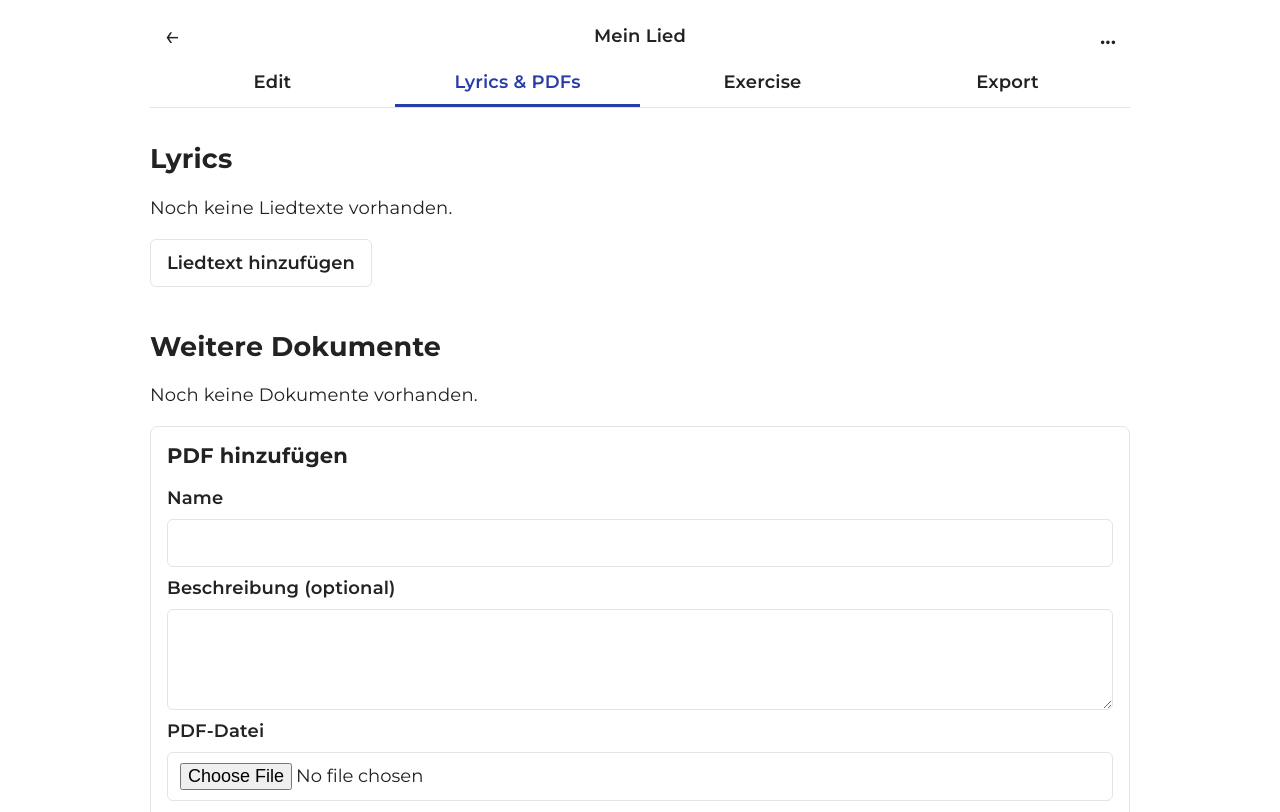
Test: App › öffnet Lyrics und PDFs über einen direkten Projektlink und navigiert zwischen den Ansichten
Expected: the heading "Lyrics" is shown, [150,142,232,175]
Expected: the heading "Weitere Dokumente" is shown, [150,330,441,362]
Click the link "Edit".
click(272, 82)  # box [254,71,291,93]
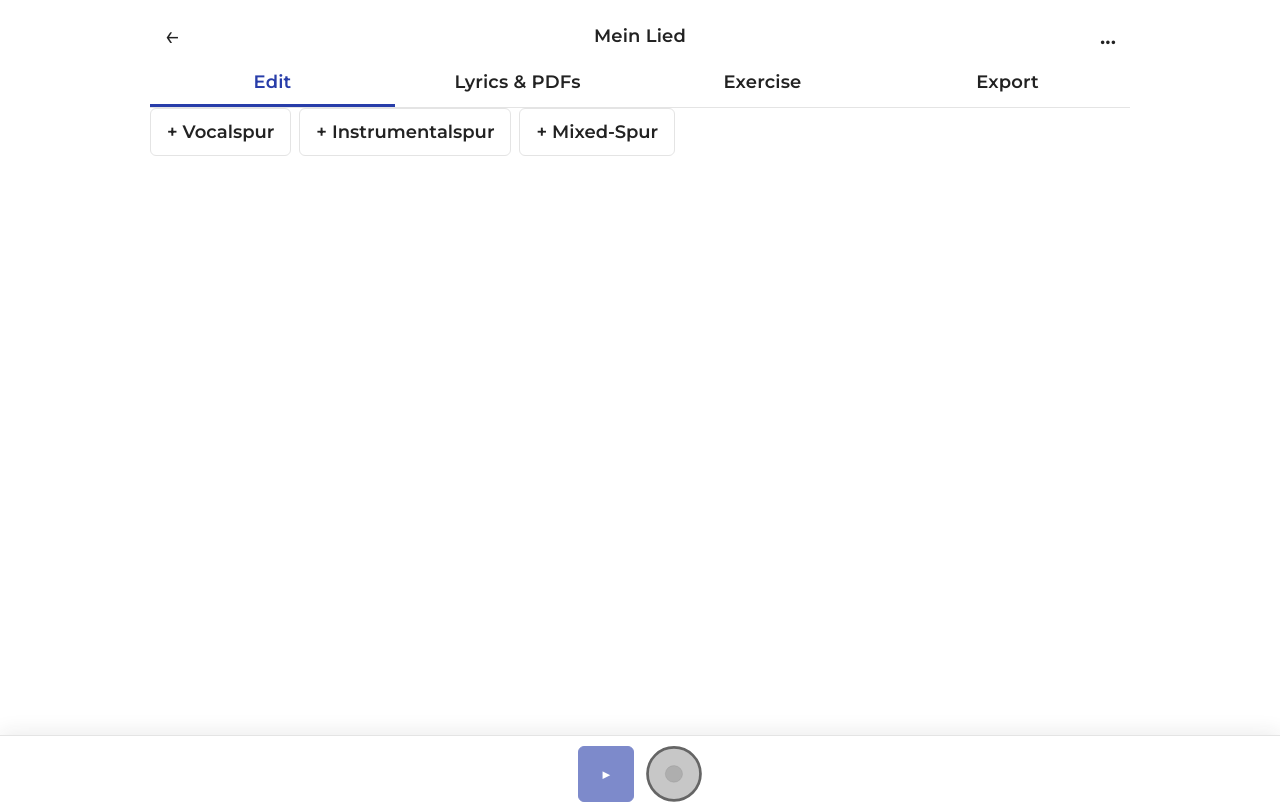
Result: the button "+ Mixed-Spur" is shown at [520,108,675,156]
Click the link "Lyrics & PDFs".
click(518, 82)  # box [454,71,581,93]
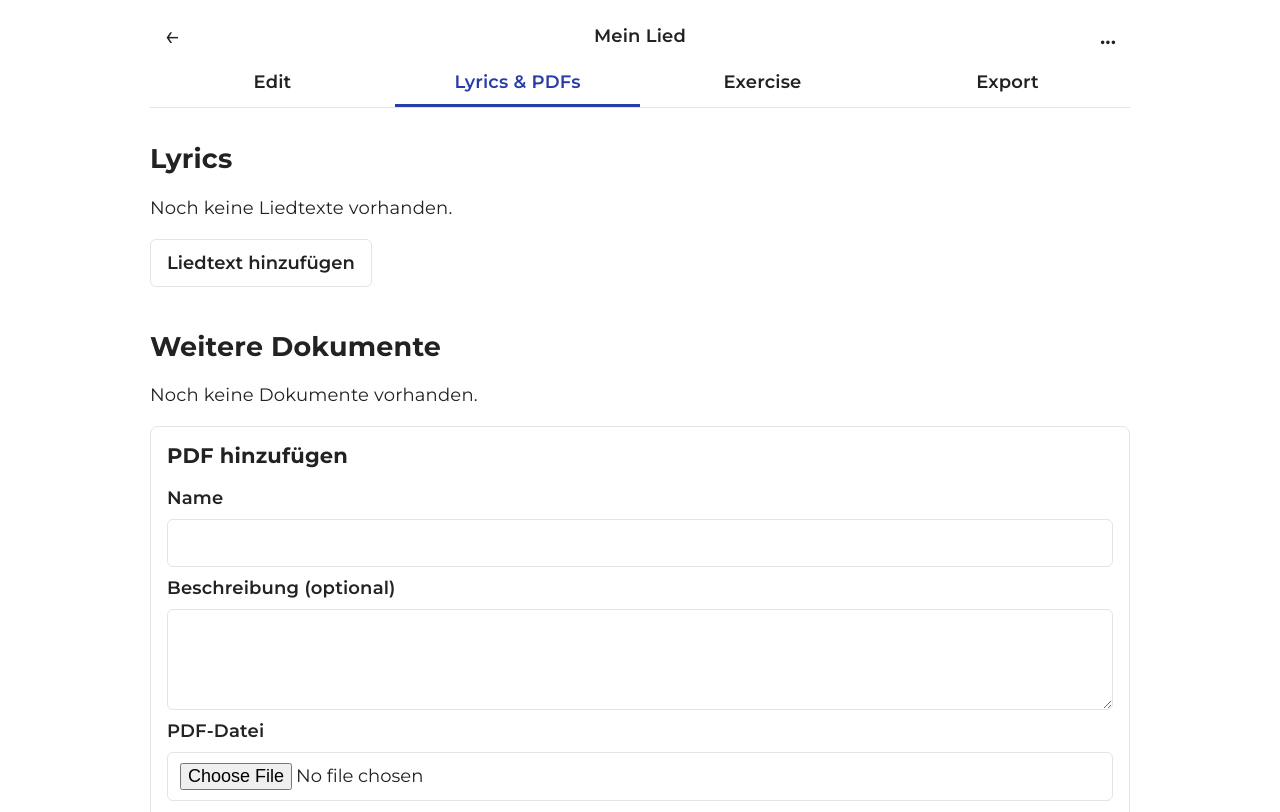
Result: the heading "Lyrics" is shown at [150,142,232,175]
